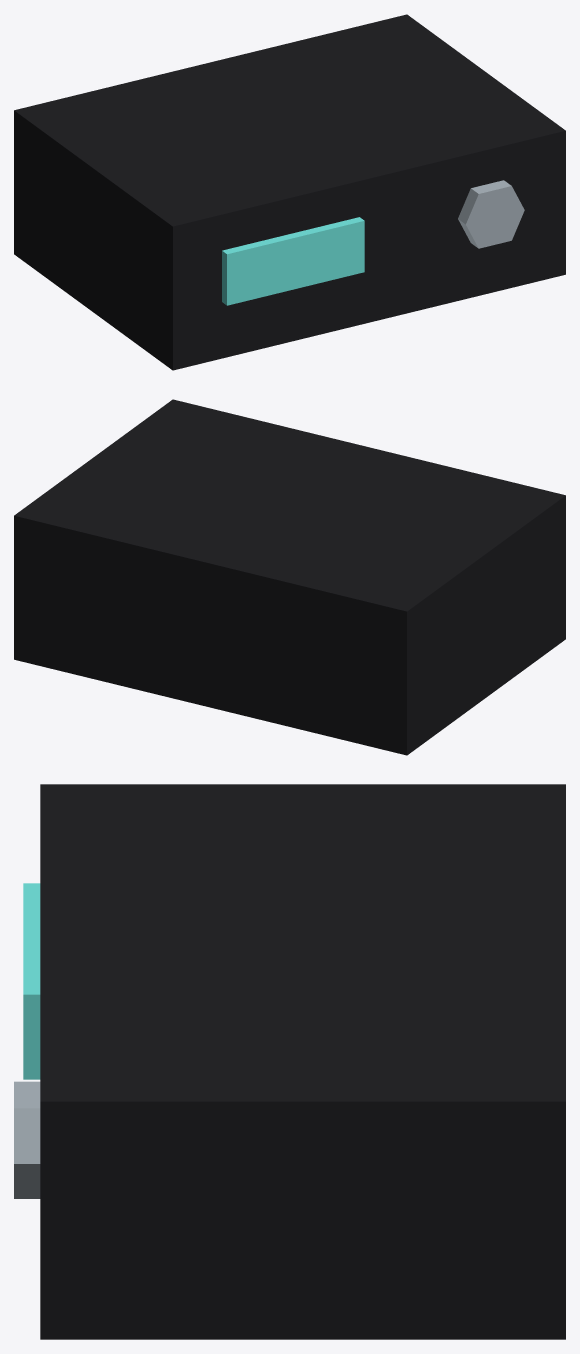
File: GD_Radio_CB_01.glb
The picture shows the model from 3 angles, top to bottom: view 1: azimuth 30°, elevation 25°; view 2: azimuth 150°, elevation 25°; view 3: azimuth 270°, elevation 25°; orthographic projection. The views are drawn at different scales.
Parts seen in each view (by area): view 1: GD_Radio_CB_01; view 2: GD_Radio_CB_01; view 3: GD_Radio_CB_01.
Boxes of the visible parts, x1=… form: GD_Radio_CB_01: x1=14, y1=14, x2=565, y2=370; GD_Radio_CB_01: x1=14, y1=399, x2=565, y2=755; GD_Radio_CB_01: x1=14, y1=784, x2=565, y2=1339.
Bounding box in the file's own units: 0.2 × 0.07 × 0.147.
1 material, 1 textured.
